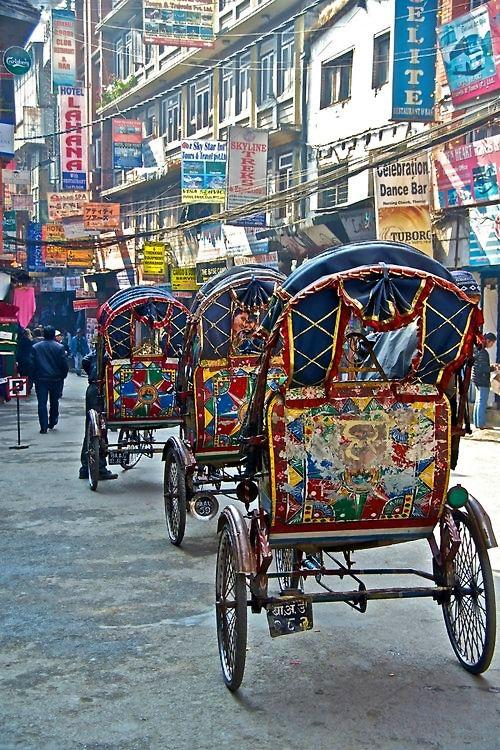Rickshaw: (216, 241, 495, 689), (163, 265, 283, 544), (87, 285, 188, 489)
